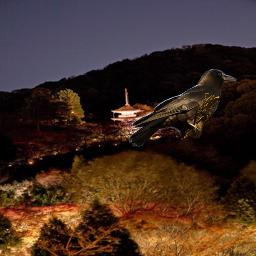Crow: (129, 67, 237, 150)
